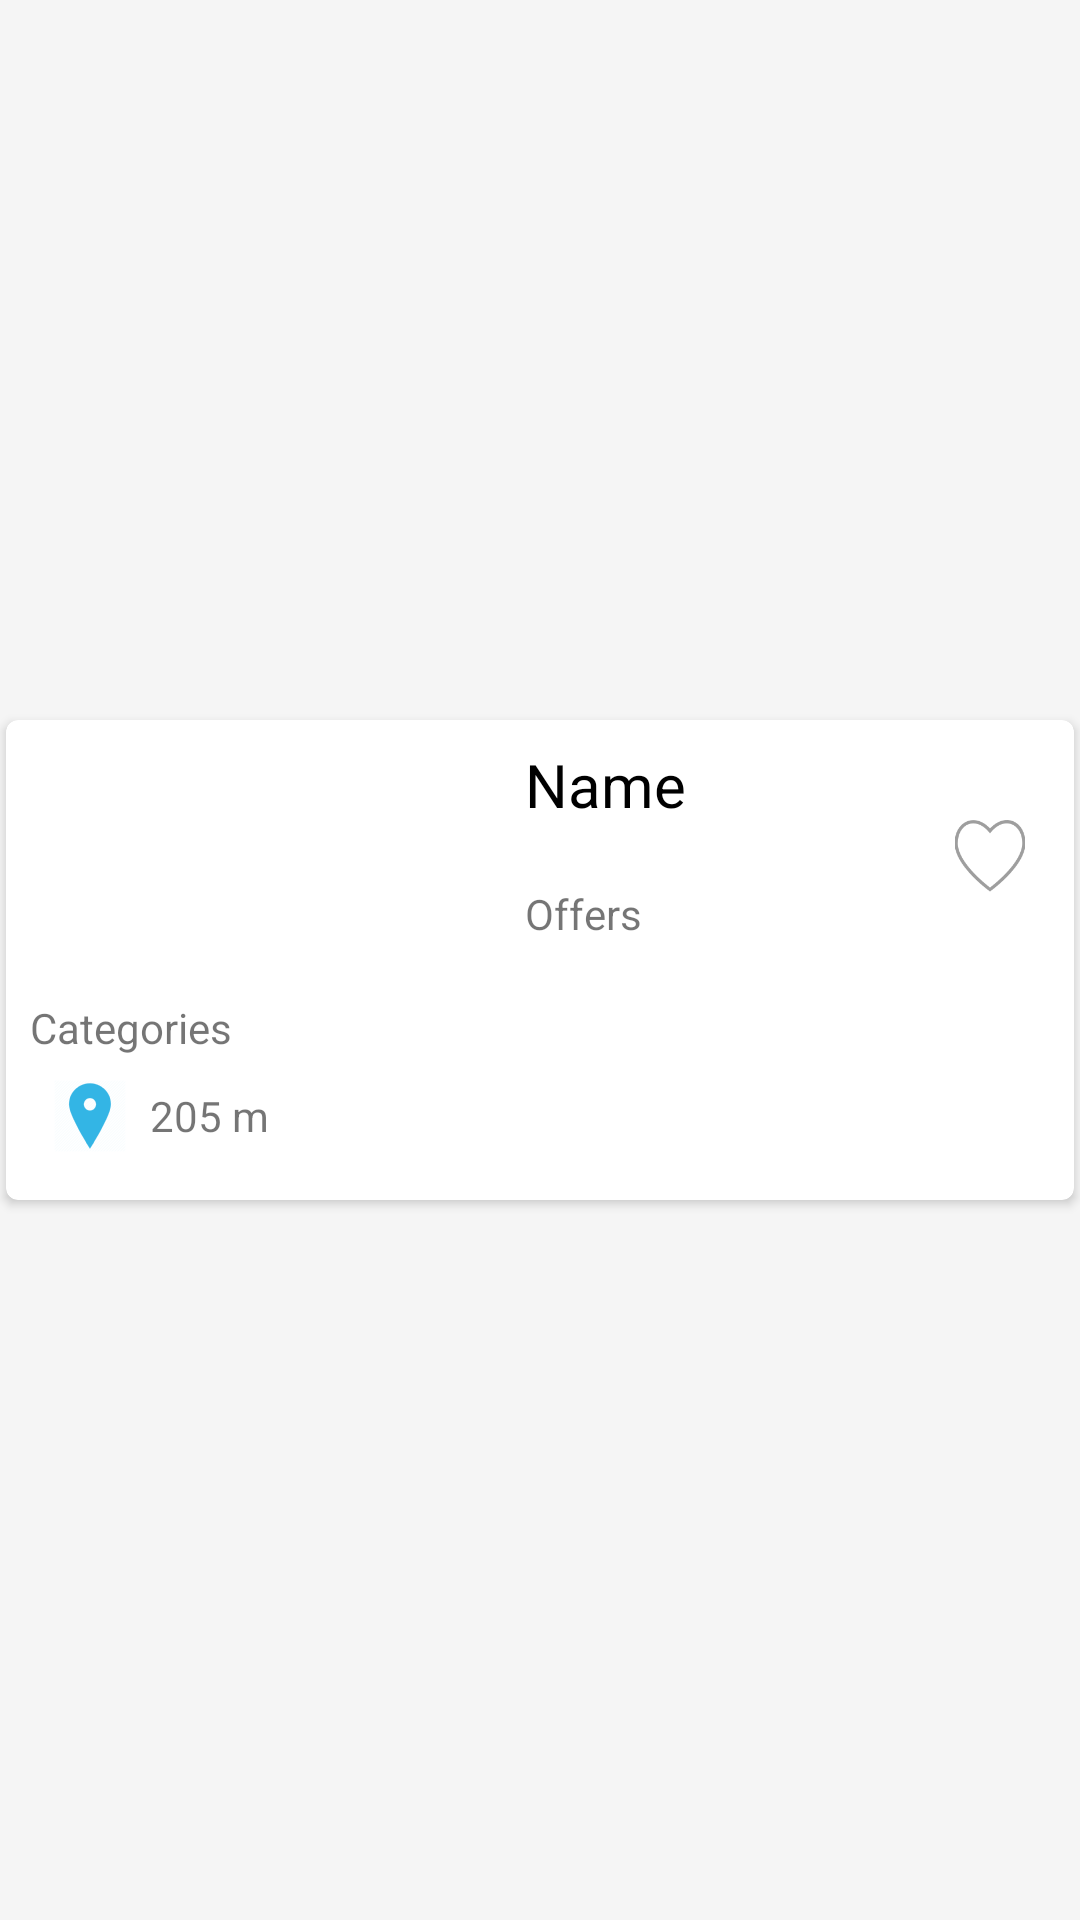

Where to tap for icons on this 1080x1920 app screen, as point (x, y):
like: point (990, 855)
